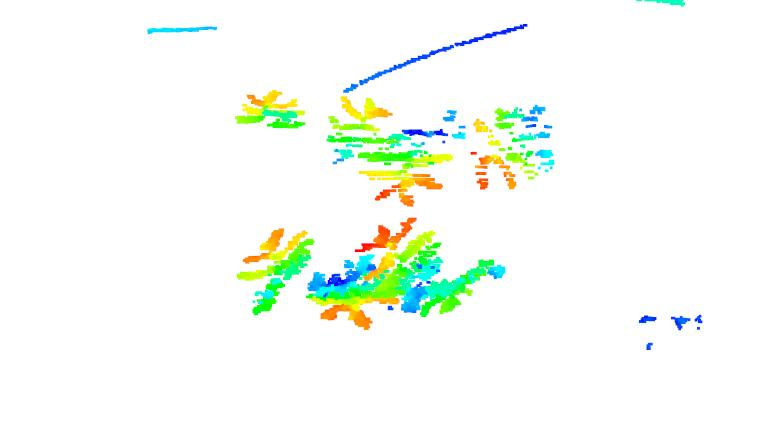chickpea: (357, 114, 462, 208), (464, 97, 555, 191), (235, 224, 317, 320), (406, 260, 512, 323), (359, 212, 444, 285), (314, 258, 396, 332), (327, 86, 392, 166), (226, 82, 311, 136)
